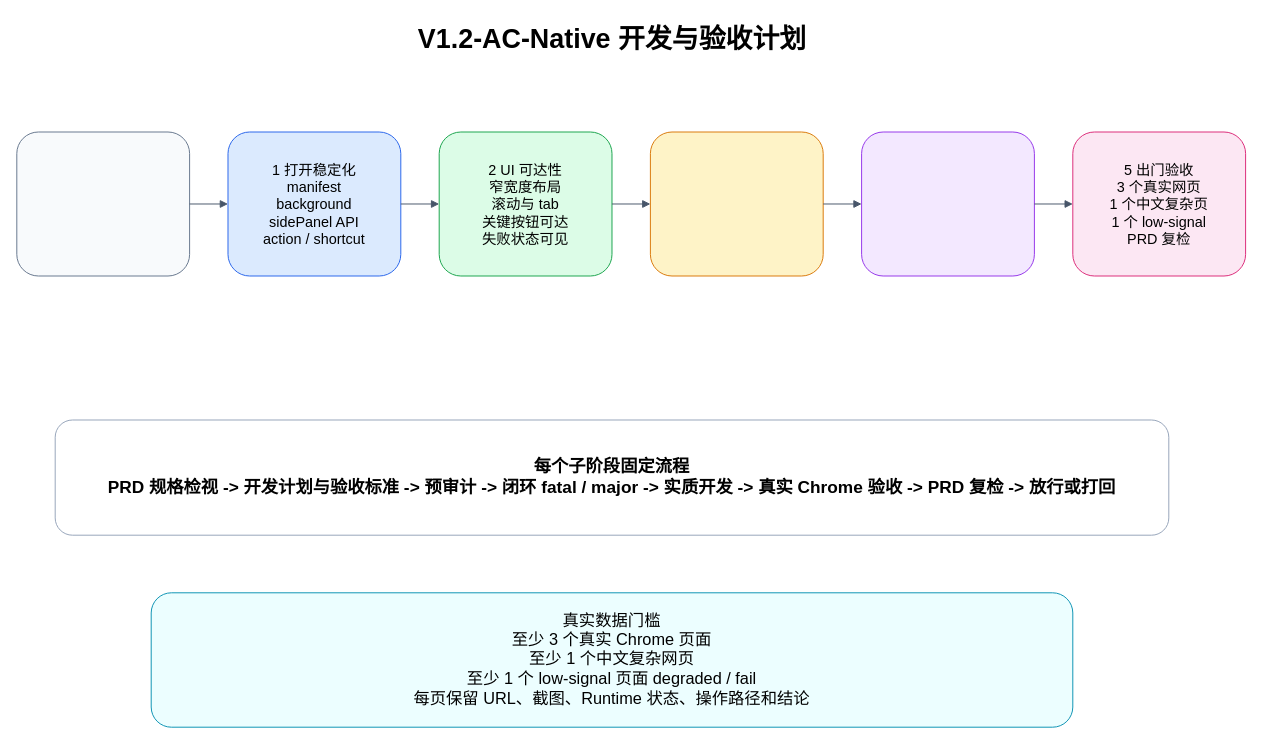
Image size: 1262x744. Some labels were removed from this diagram. Here are the shapes that lost their labels. From the top down, the box of each, then its label:
(16, 131, 190, 276): 0 合同与验收冻结 native-only 通过口径 截图标准 证据路径 No-Go
(649, 131, 823, 276): 3 自动化锚点 data-testid native-probe native-ux blocker 输出
(861, 131, 1034, 276): 4 完整路径 读取页面 Debug JSON 总结 / 问答 Mindmap / fallback
